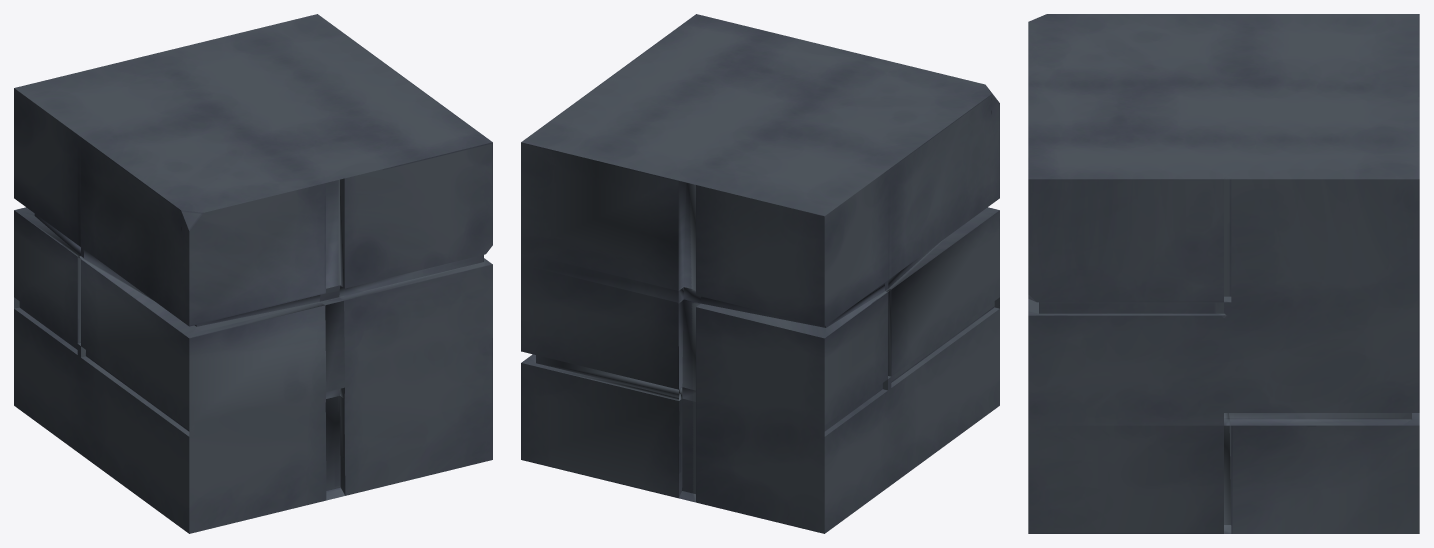
File: BrickWall.fbx
3 renders of one model, left to right at view 1: azimuth 30°, elevation 25°; view 2: azimuth 150°, elevation 25°; view 3: azimuth 270°, elevation 25°, orthographic. The views are drawn at different scales.
Parts seen in each view (by area): view 1: CrackedWall; view 2: CrackedWall; view 3: CrackedWall.
Boxes of the visible parts, x1=… form: CrackedWall: x1=14, y1=14, x2=492, y2=533; CrackedWall: x1=521, y1=14, x2=999, y2=533; CrackedWall: x1=1028, y1=14, x2=1419, y2=533.
Bounding box in the file's own units: 98.11 × 98.11 × 98.11.
